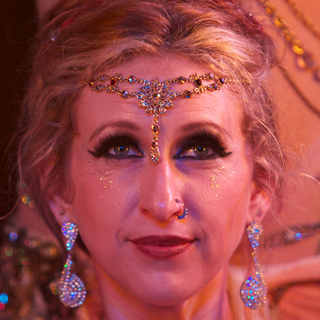eye: (169, 132, 229, 166), (88, 135, 147, 164)
